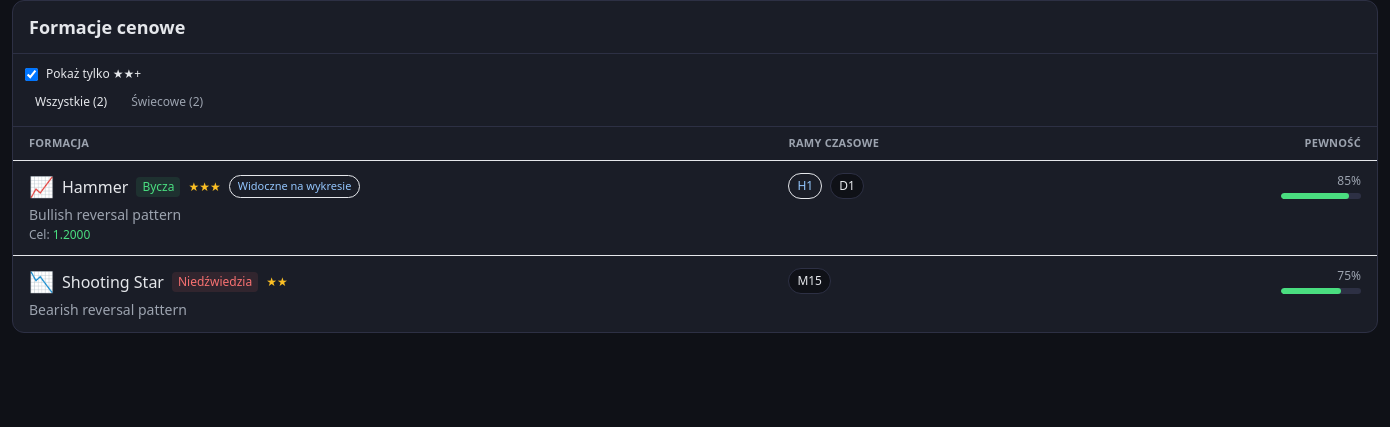
PatternList › checkbox 'Pokaż tylko ★★+' filtruje po wiarygodności
expect the text "Hammer" is shown: met, box [62, 174, 128, 198]
expect the text "Shooting Star" is shown: met, box [62, 270, 164, 294]
// Click the checkbox to disable the filter (show all patterns)
Click the checkbox labelled "Pokaż tylko ★★+": (32, 74) [25, 68, 38, 80]
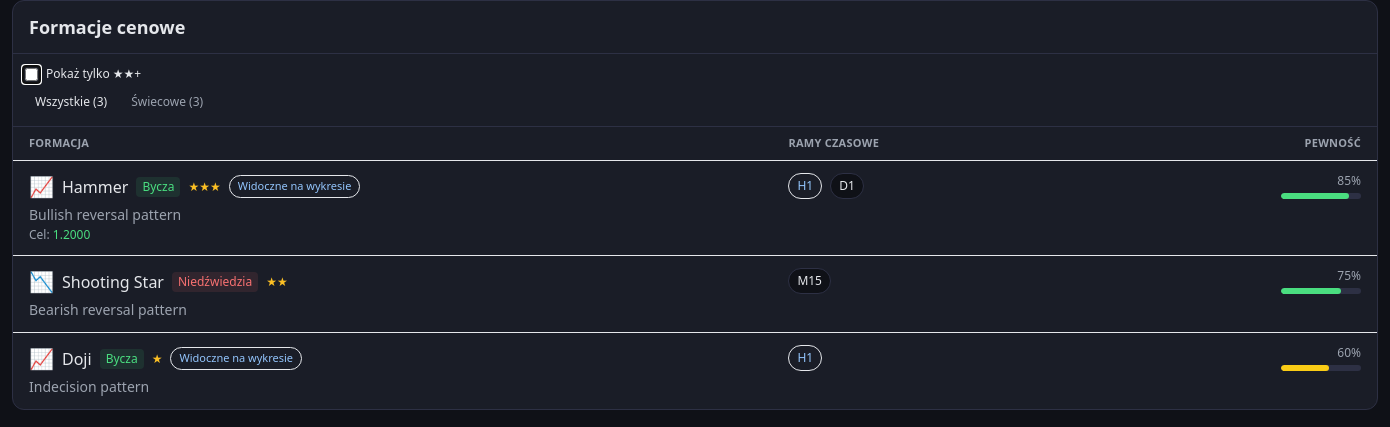
expect the text "Hammer" is shown: met, box [62, 174, 128, 198]
expect the text "Doji" is shown: met, box [62, 346, 92, 370]
